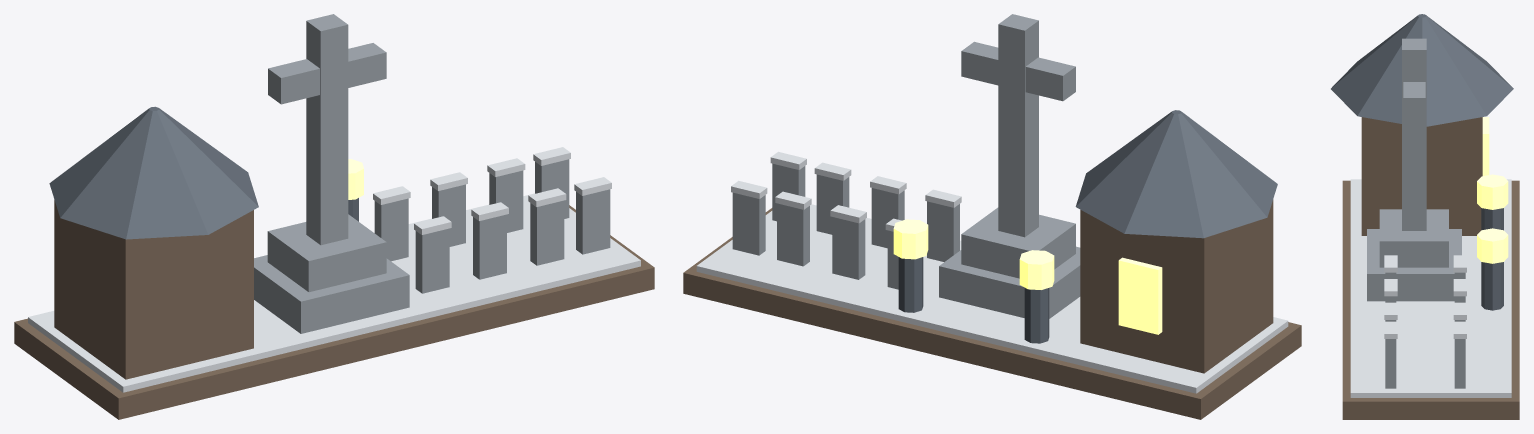
Rendered from cemetery.glb.
The picture shows the model from 3 angles, left to right: view 1: azimuth 30°, elevation 25°; view 2: azimuth 150°, elevation 25°; view 3: azimuth 270°, elevation 25°; orthographic projection. The views are drawn at different scales.
Parts seen in each view (by area): view 1: cemetery_Building; view 2: cemetery_Building; view 3: cemetery_Building.
Part boxes in pixels (box(x1,y1,x2,y2)): cemetery_Building: box(14, 14, 654, 419); cemetery_Building: box(683, 14, 1301, 419); cemetery_Building: box(1331, 14, 1519, 419).
Size of the model in its own units: 4.78 by 2.55 by 1.69.
